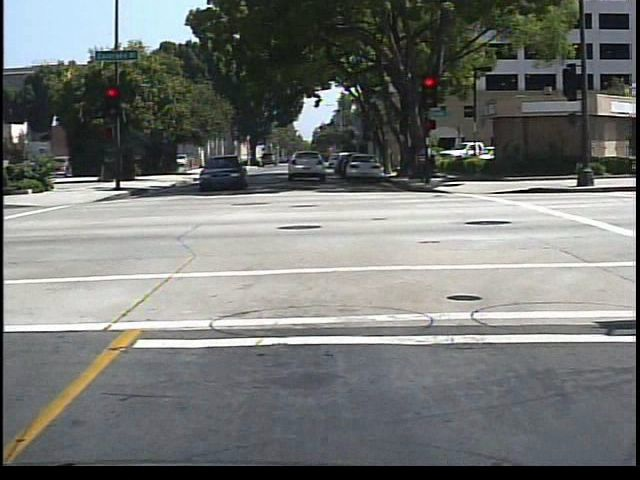person: (419, 137, 438, 186)
